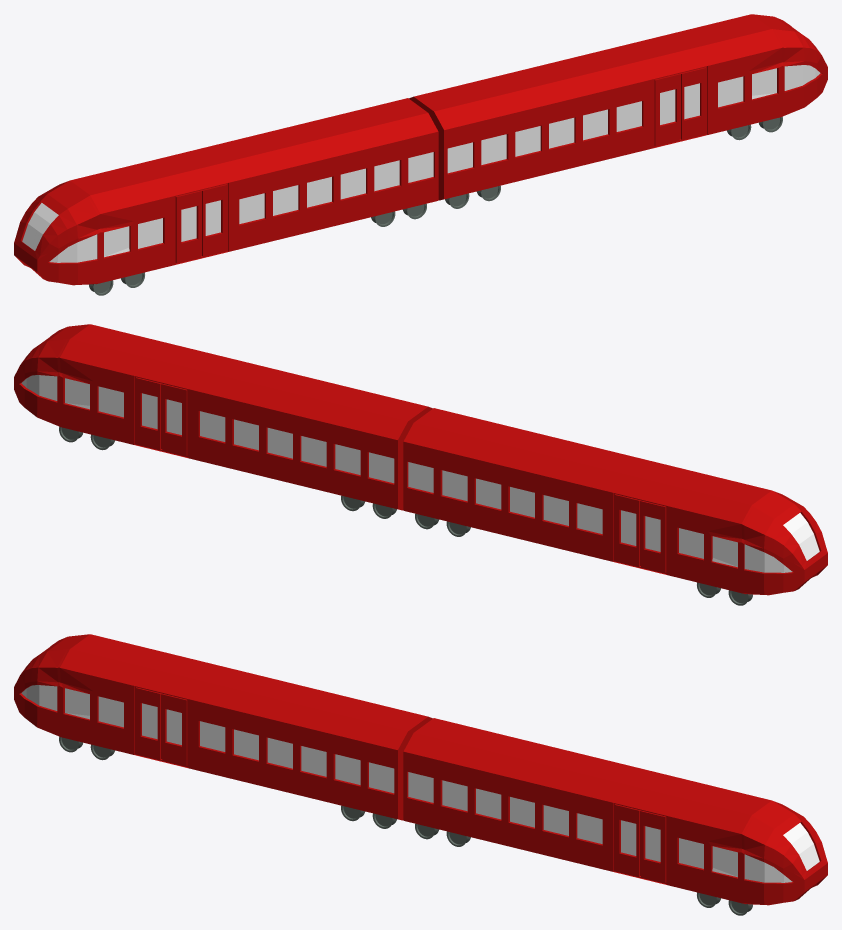
File: FullTrain.obj
3 renders of one model, top to bottom at view 1: azimuth 30°, elevation 25°; view 2: azimuth 150°, elevation 25°; view 3: azimuth 330°, elevation 25°, orthographic.
Visible parts, largest first — view 1: Train.002_Cube.008, Full_Train_Cube.004; view 2: Train.002_Cube.008, Full_Train_Cube.004; view 3: Full_Train_Cube.004, Train.002_Cube.008.
Boxes of the visible parts, bbox=[...] form: Train.002_Cube.008: bbox=[14, 98, 438, 295]; Full_Train_Cube.004: bbox=[409, 14, 827, 208]; Train.002_Cube.008: bbox=[403, 408, 827, 605]; Full_Train_Cube.004: bbox=[14, 324, 432, 518]; Full_Train_Cube.004: bbox=[403, 718, 827, 915]; Train.002_Cube.008: bbox=[14, 634, 432, 828].
Bounding box in the file's own units: 132 × 15.44 × 11.8.
